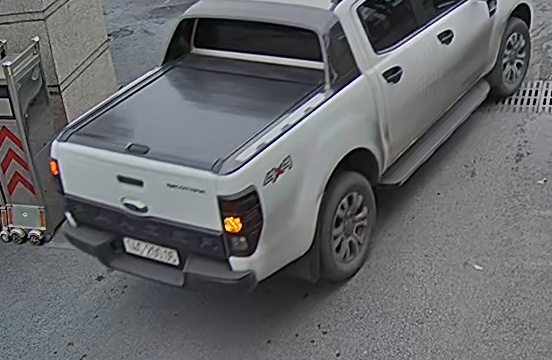vehicle plate: (125, 230, 182, 270)
